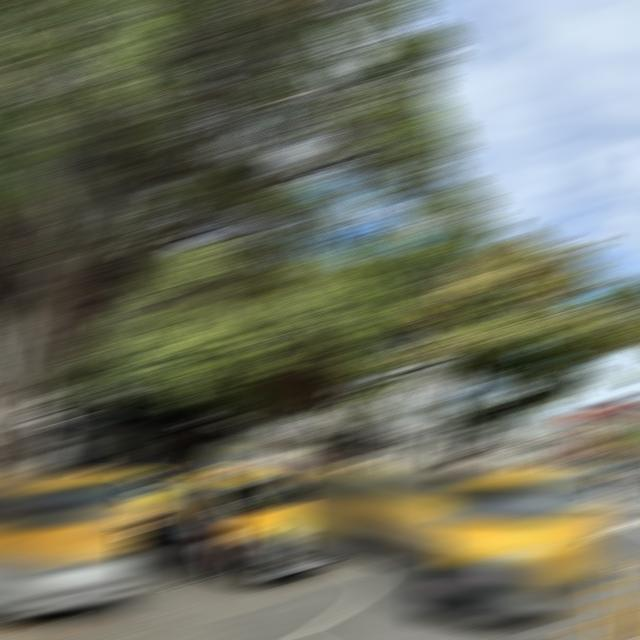Door: (412, 467, 605, 621), (0, 475, 138, 613), (192, 472, 334, 581), (290, 468, 451, 559)
Taxi: (152, 475, 208, 560)
